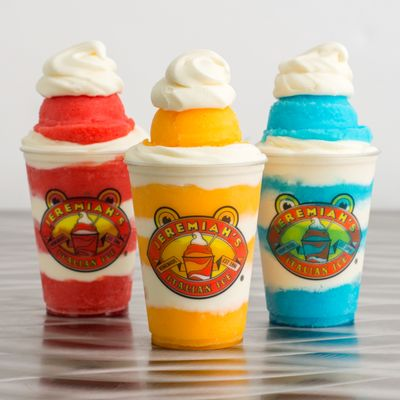pizza: (257, 194, 368, 329)
